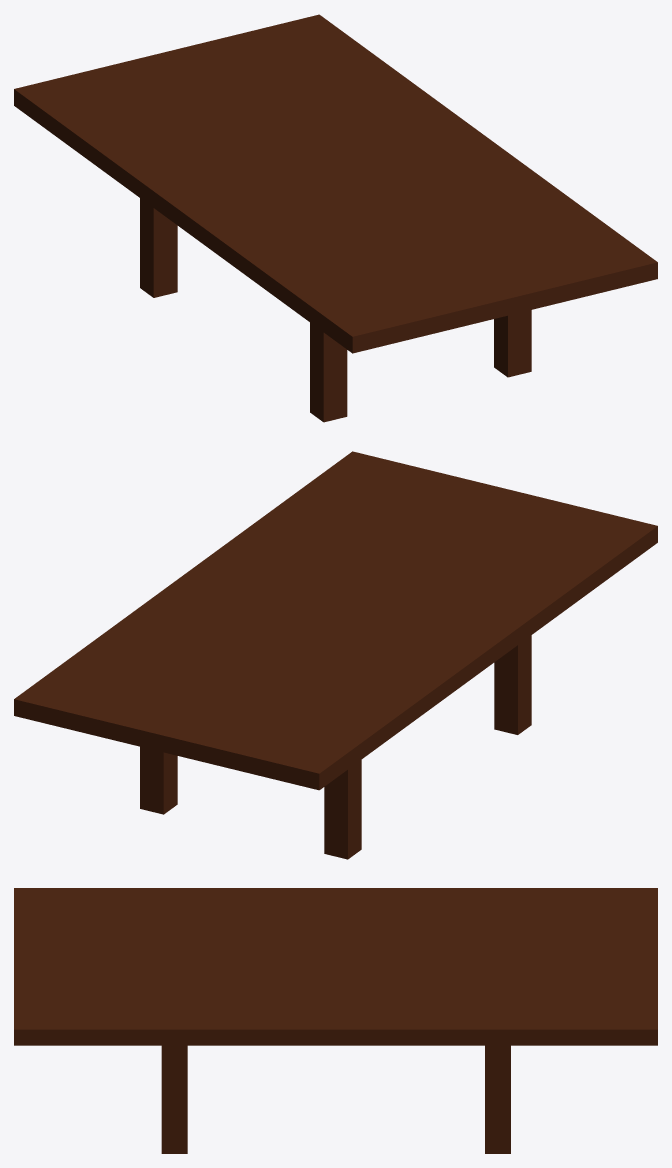
Rendered from KitchenTable.FBX.
The picture shows the model from 3 angles, top to bottom: view 1: azimuth 30°, elevation 25°; view 2: azimuth 150°, elevation 25°; view 3: azimuth 270°, elevation 25°; orthographic projection. The views are drawn at different scales.
Visible parts, largest first — view 1: KitchenTable_Surface_Part2, KitchenTable_Surface_Part1, KitchenTable_Surface_Part3, KitchenTable_Leg1, KitchenTable_Leg4, KitchenTable_Leg3; view 2: KitchenTable_Surface_Part2, KitchenTable_Surface_Part3, KitchenTable_Surface_Part1, KitchenTable_Leg4, KitchenTable_Leg1, KitchenTable_Leg2; view 3: KitchenTable_Surface_Part2, KitchenTable_Surface_Part3, KitchenTable_Surface_Part1, KitchenTable_Leg3, KitchenTable_Leg2.
Part boxes in pixels (x1,y1,x2,y2): KitchenTable_Surface_Part2: [112, 77, 593, 280]; KitchenTable_Surface_Part1: [248, 215, 657, 353]; KitchenTable_Surface_Part3: [14, 14, 405, 176]; KitchenTable_Leg1: [140, 198, 177, 297]; KitchenTable_Leg4: [310, 322, 347, 422]; KitchenTable_Leg3: [494, 310, 531, 377]; KitchenTable_Surface_Part2: [101, 498, 558, 718]; KitchenTable_Surface_Part3: [14, 636, 427, 790]; KitchenTable_Surface_Part1: [289, 451, 657, 615]; KitchenTable_Leg4: [494, 635, 531, 734]; KitchenTable_Leg1: [324, 760, 361, 859]; KitchenTable_Leg2: [140, 746, 177, 814]; KitchenTable_Surface_Part2: [127, 888, 513, 1045]; KitchenTable_Surface_Part3: [452, 888, 657, 1045]; KitchenTable_Surface_Part1: [14, 888, 211, 1045]; KitchenTable_Leg3: [161, 1045, 187, 1153]; KitchenTable_Leg2: [485, 1045, 510, 1153].
Bounding box in the file's own units: 219 × 106 × 421.
